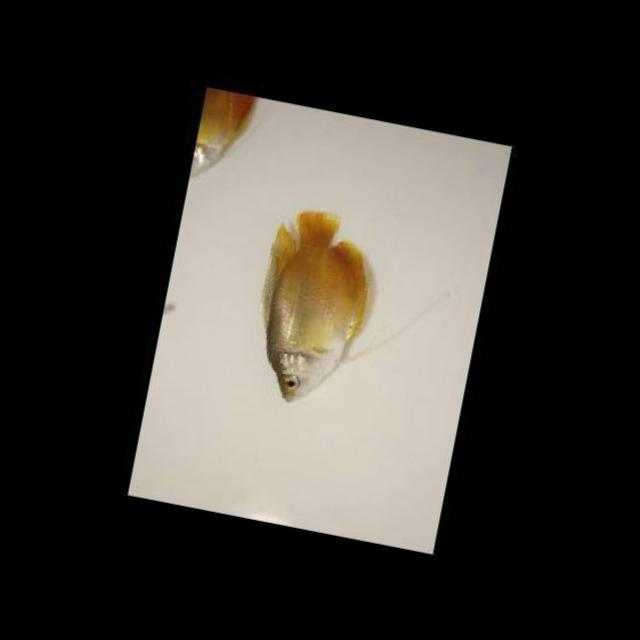Gourami: (240, 203, 377, 410)
